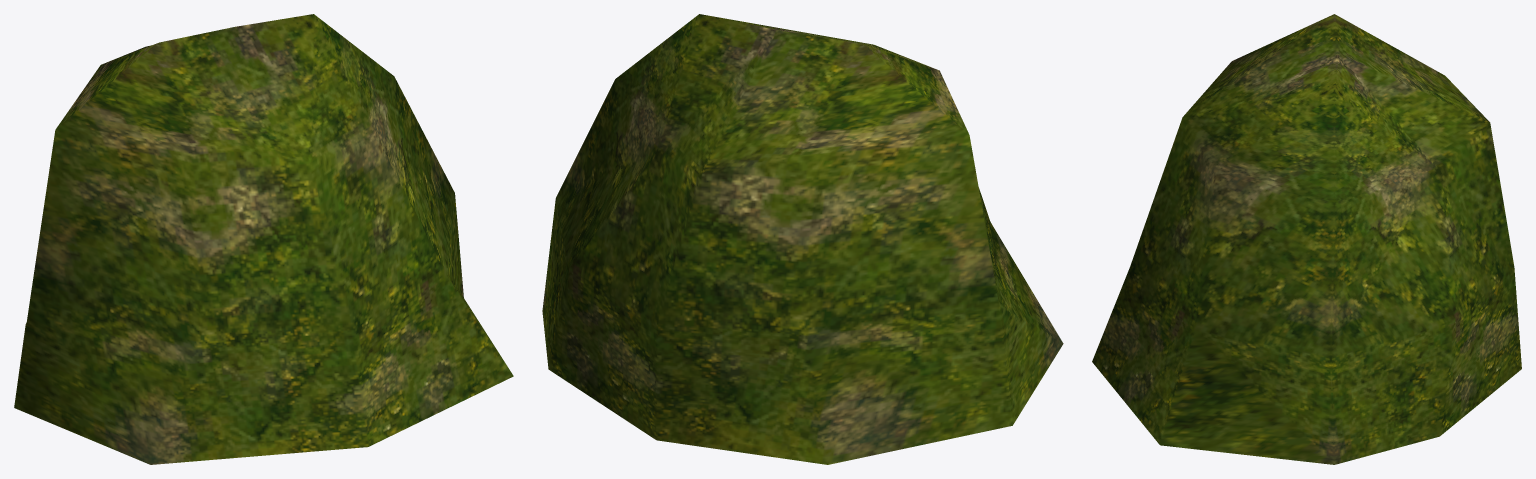
The model's file is INST_OH_ROCK_02.fbx.
The picture shows the model from 3 angles, left to right: view 1: azimuth 30°, elevation 25°; view 2: azimuth 150°, elevation 25°; view 3: azimuth 270°, elevation 25°; orthographic projection. The views are drawn at different scales.
Parts seen in each view (by area): view 1: INST_OH_ROCK_02; view 2: INST_OH_ROCK_02; view 3: INST_OH_ROCK_02.
Part boxes in pixels (x1,y1,x2,y2): INST_OH_ROCK_02: (14,14,513,464); INST_OH_ROCK_02: (542,14,1063,464); INST_OH_ROCK_02: (1092,14,1521,464).
Size of the model in its own units: 7433 by 5210 by 6529.
1 material, 1 textured.
